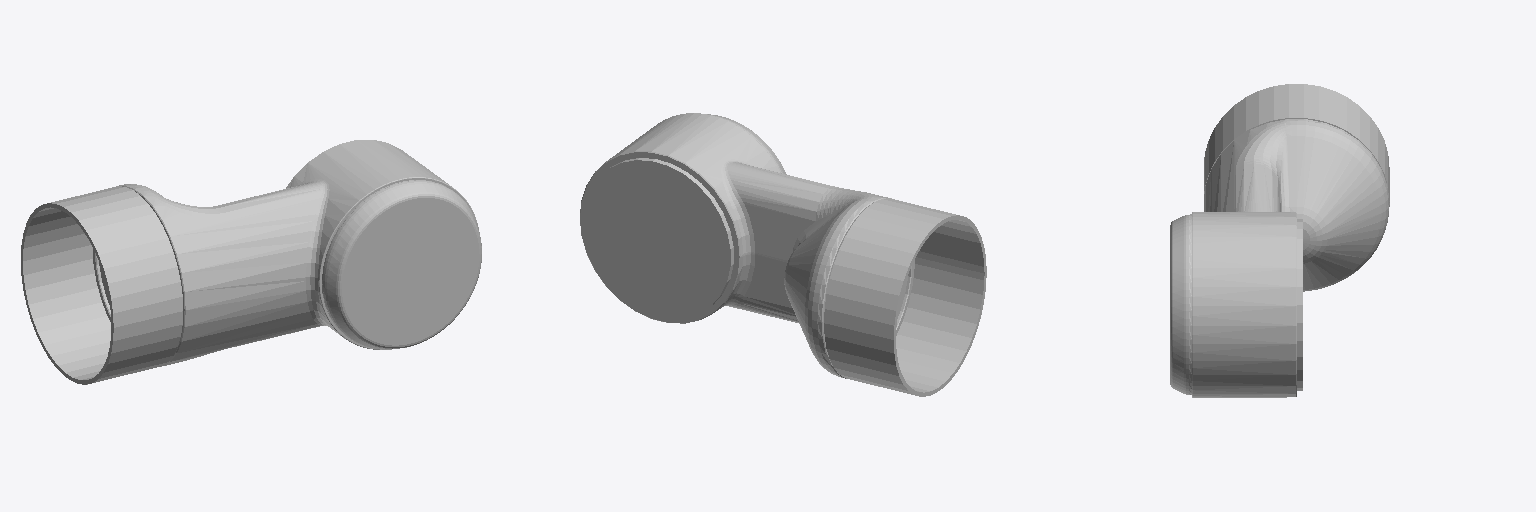
File: upperarm_roll_link.obj
The picture shows the model from 3 angles: view 1: azimuth 30°, elevation 25°; view 2: azimuth 150°, elevation 25°; view 3: azimuth 270°, elevation 25°; orthographic projection.
Parts seen in each view (by area): view 1: upperarm_roll_link; view 2: upperarm_roll_link; view 3: upperarm_roll_link.
Boxes of the visible parts, x1,y1,x2,y2 form: upperarm_roll_link: [21, 140, 481, 384]; upperarm_roll_link: [580, 113, 986, 396]; upperarm_roll_link: [1170, 84, 1389, 397].
Size of the model in its own units: 0.233 by 0.104 by 0.1225.